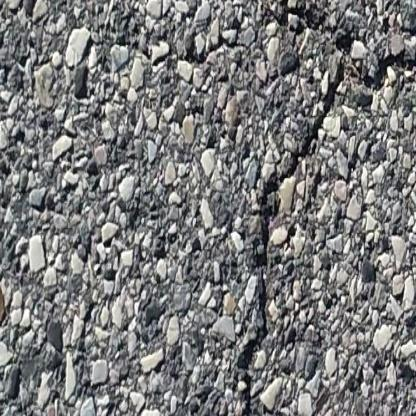Cracks: (203, 0, 416, 416)
